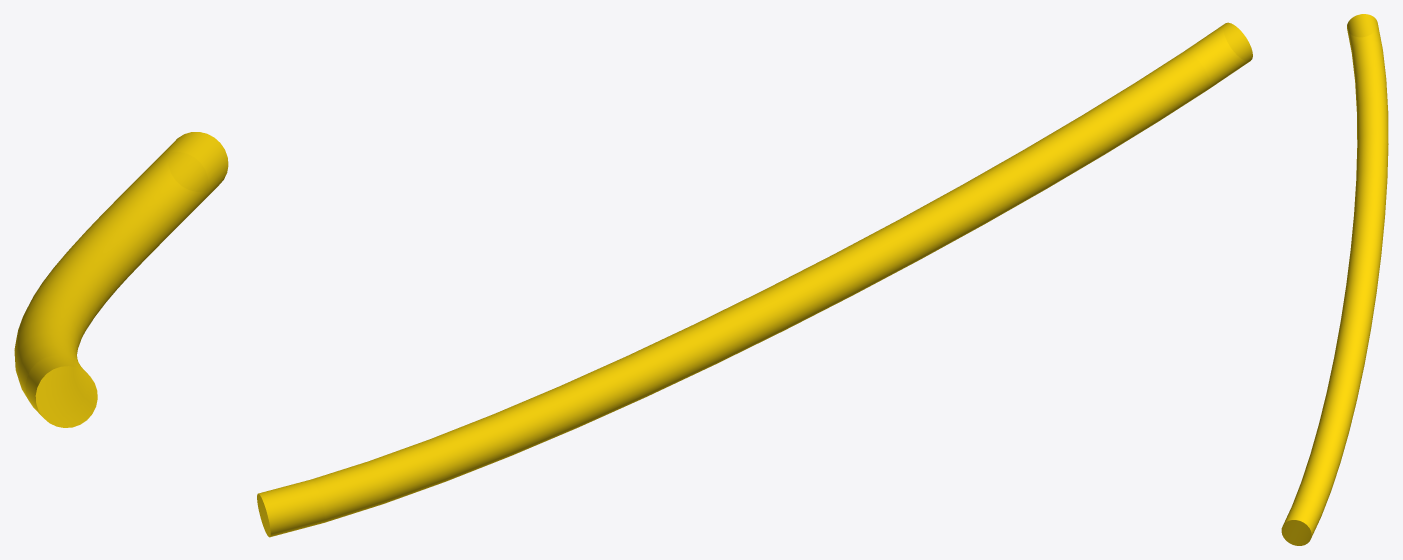
Rendered from Event_421115418_track_127.fbx.
3 renders of one model, left to right at view 1: azimuth 90°, elevation 25°; view 2: azimuth 210°, elevation 25°; view 3: azimuth 270°, elevation 25°, orthographic. The views are drawn at different scales.
Visible parts, largest first — view 1: Model; view 2: Model; view 3: Model.
Boxes of the visible parts, x1,y1,x2,y2 form: Model: [14, 132, 228, 427]; Model: [257, 22, 1252, 537]; Model: [1281, 14, 1388, 545].
Size of the model in its own units: 0.9556 by 0.3131 by 0.1365.
